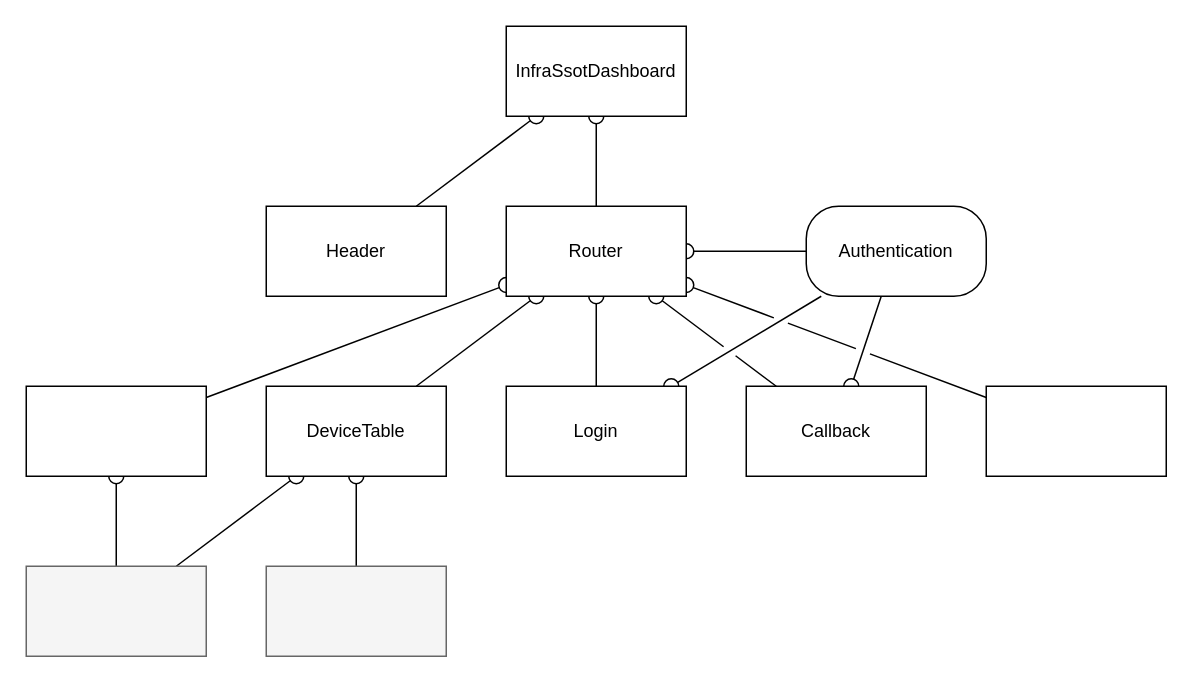
Some shapes in this 1193 by 683 pixel diagram are drawn without their labels. Each missing label, with the centre of its shape:
Device: pixel 115 610
DeviceDetails: pixel 115 430
Error page: pixel 1075 430
Pagination Metadata: pixel 355 610
